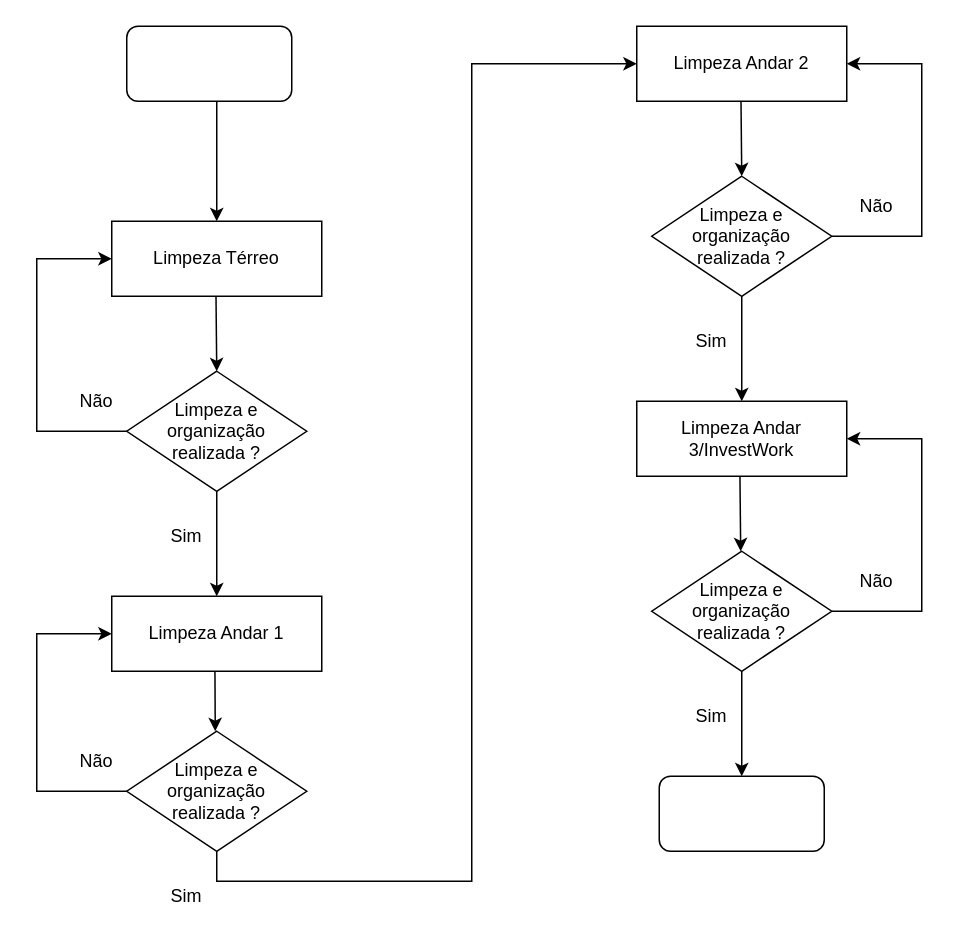
Image size: 960x938. Some labels were removed from this diagram. The shapes that lost their labels are listed below. From the top down, each one's centre as x and y in pixels, then its label:
pixel 208 63: Rotina Principal
pixel 741 813: FInal
